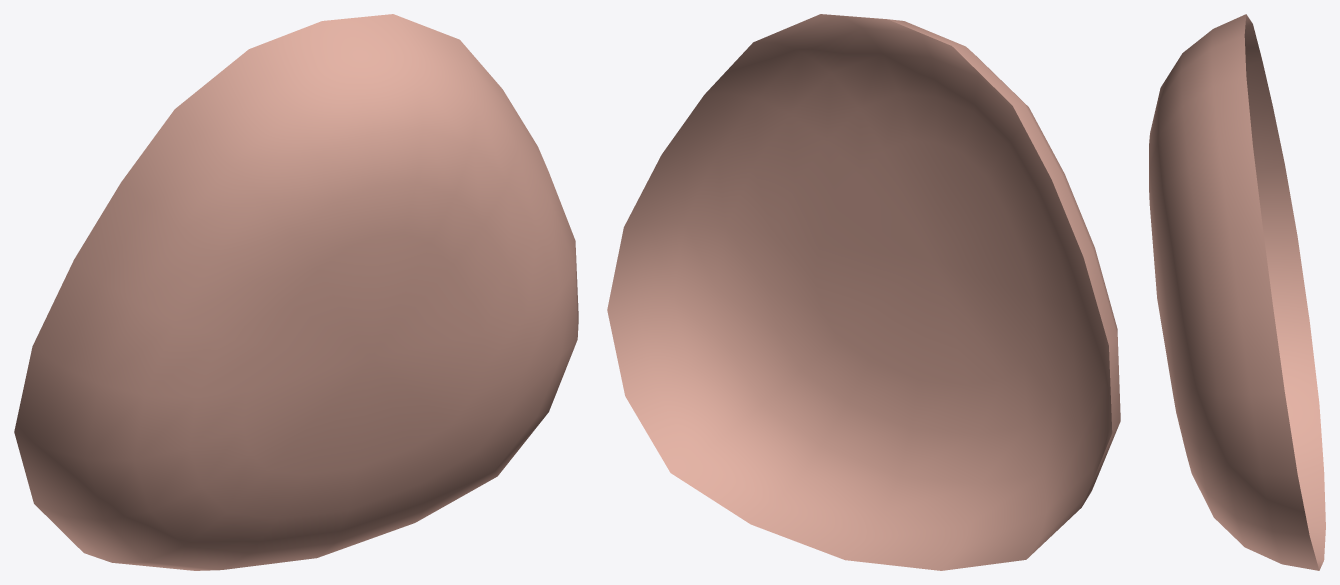
The picture shows the model from 3 angles, left to right: view 1: azimuth 30°, elevation 25°; view 2: azimuth 150°, elevation 25°; view 3: azimuth 270°, elevation 25°; orthographic projection. The views are drawn at different scales.
Parts seen in each view (by area): view 1: pCylinder4; view 2: pCylinder4; view 3: pCylinder4.
Boxes of the visible parts, x1,y1,x2,y2 form: pCylinder4: (14, 14, 578, 570); pCylinder4: (607, 14, 1120, 570); pCylinder4: (1149, 14, 1325, 570).
Bounding box in the file's own units: 0.0737 × 0.0711 × 0.0232.
